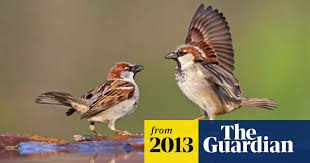hsparrow: (161, 1, 280, 119), (34, 60, 145, 137)
